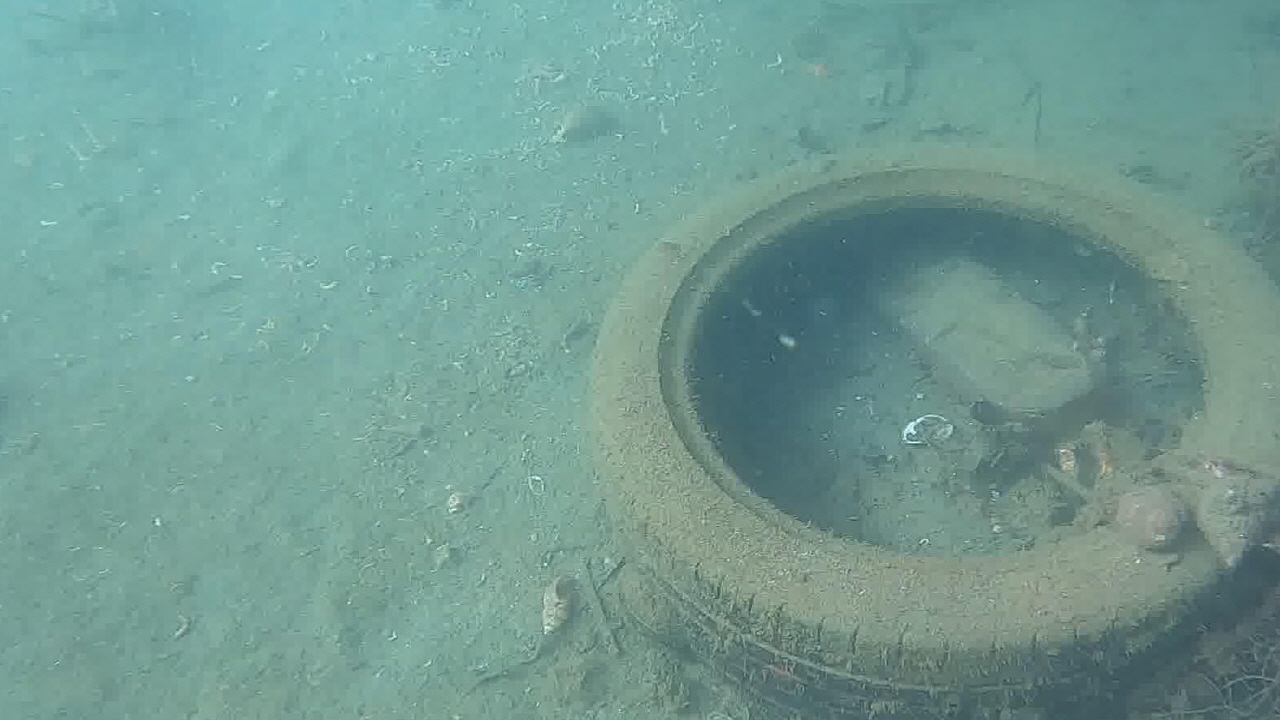tire: (586, 139, 1280, 720)
